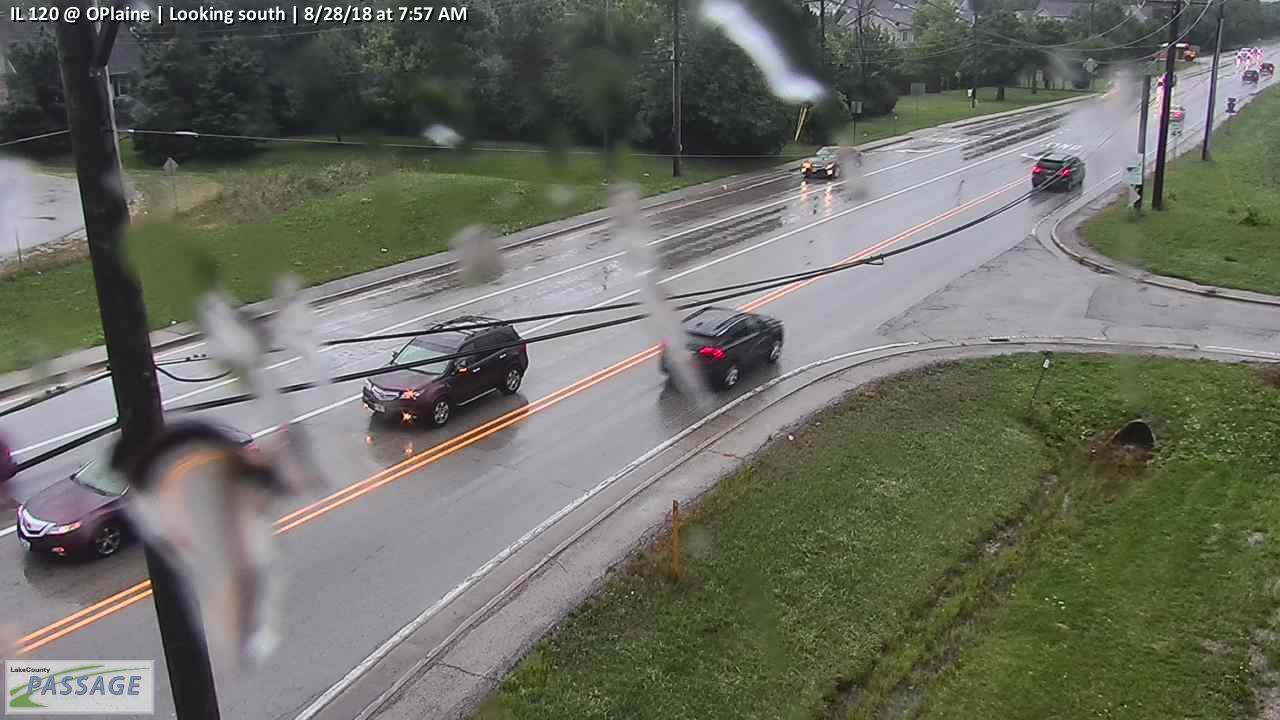SUV: (361, 315, 528, 430), (659, 303, 785, 392), (1031, 149, 1087, 193), (799, 144, 863, 179)
Sedan: (15, 416, 260, 564)
